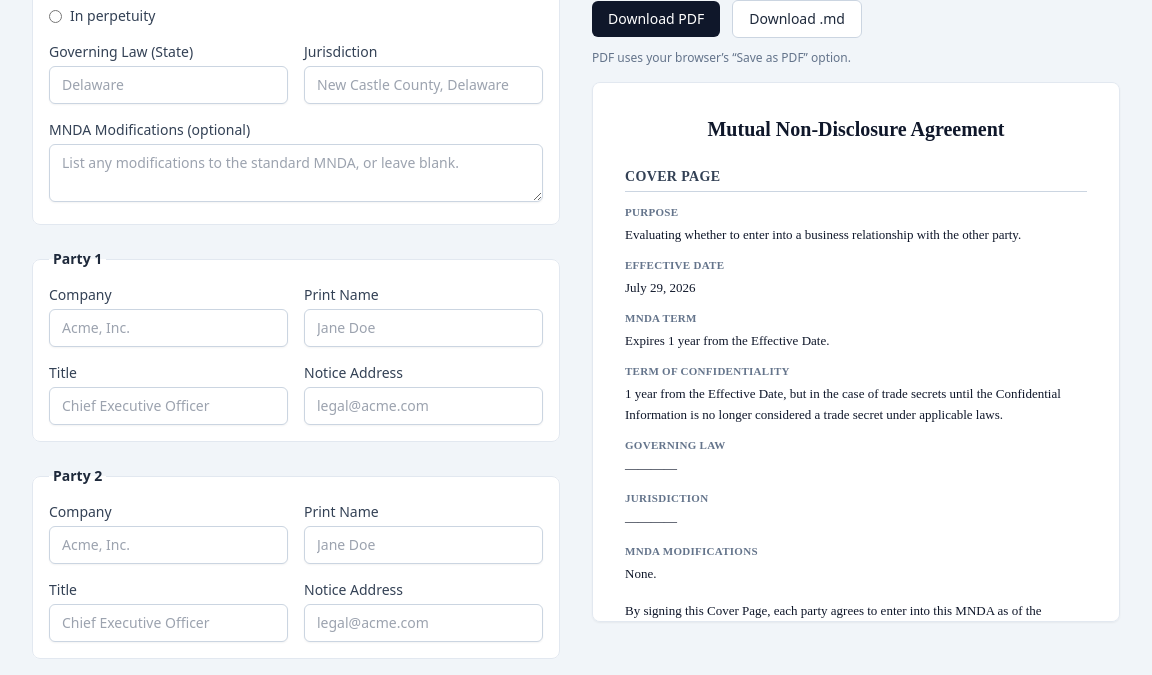
Home page (form → live preview) › updates the signature table when a party name is entered
(page scrolled)
Type "Ada Lovelace" into the field with placeholder "Jane Doe" below "Party 1".
click(424, 328); type("Ada Lovelace")  # box top-left (304, 309), bottom-right (543, 347)
(page scrolled)
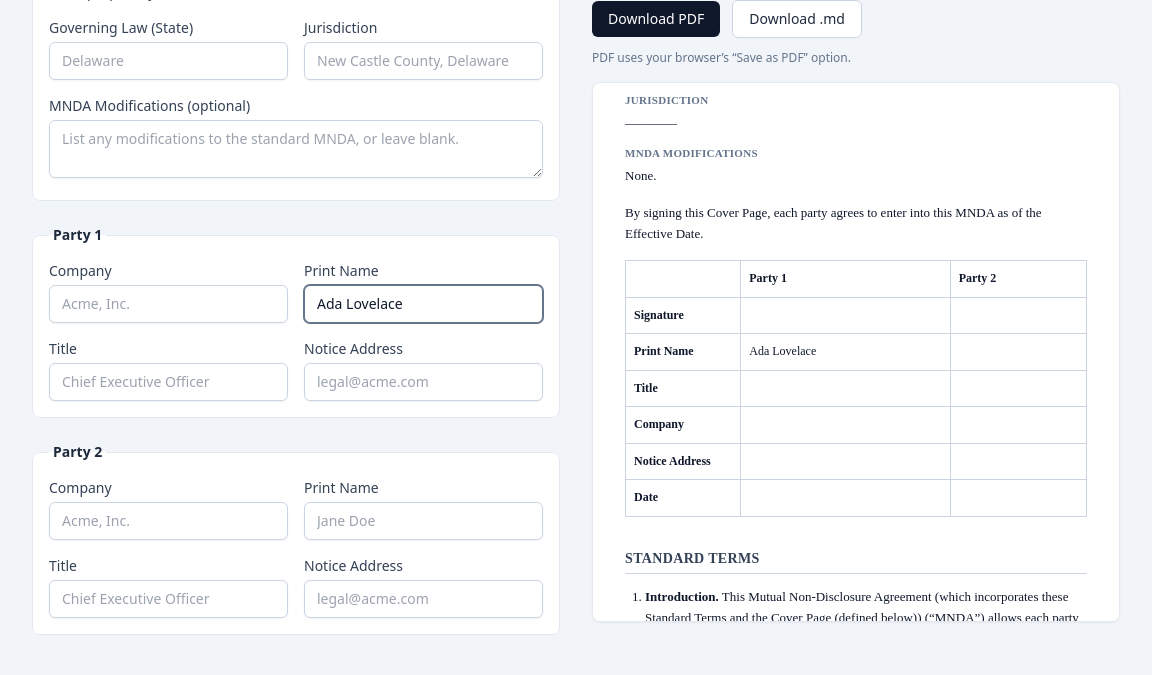
Expected: the text "Ada Lovelace" is shown, top-left (741, 334), bottom-right (950, 370)
